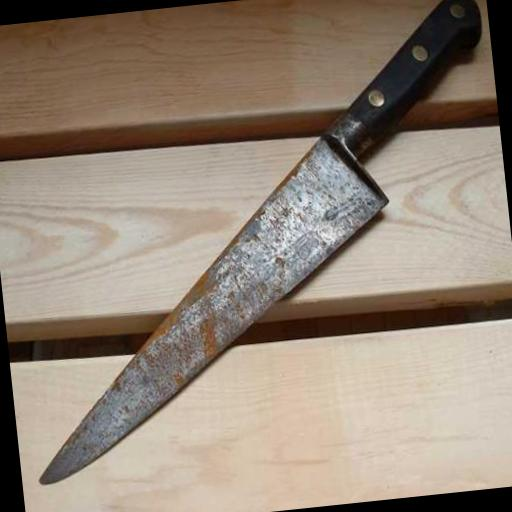segmentation: (202, 319, 217, 358)
